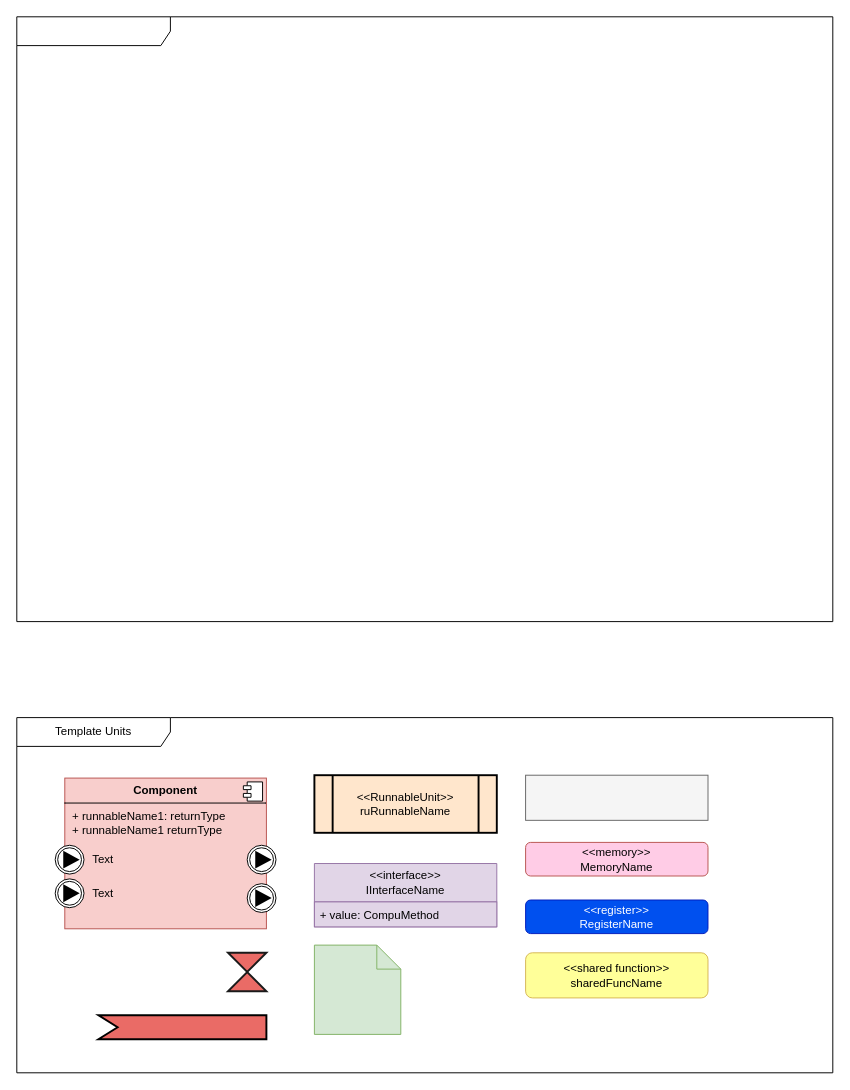
Image size: 850x1090. Some labels were removed from this diagram. The centre of each missing label's shape, as x and y in pixels:
"<<Library>> LibraryName" goes at point 616,797.
"Note" goes at point 357,989.
"operationInvokeEvent" goes at point 182,1027.
"timeTriggerEvent" goes at point 247,971.
